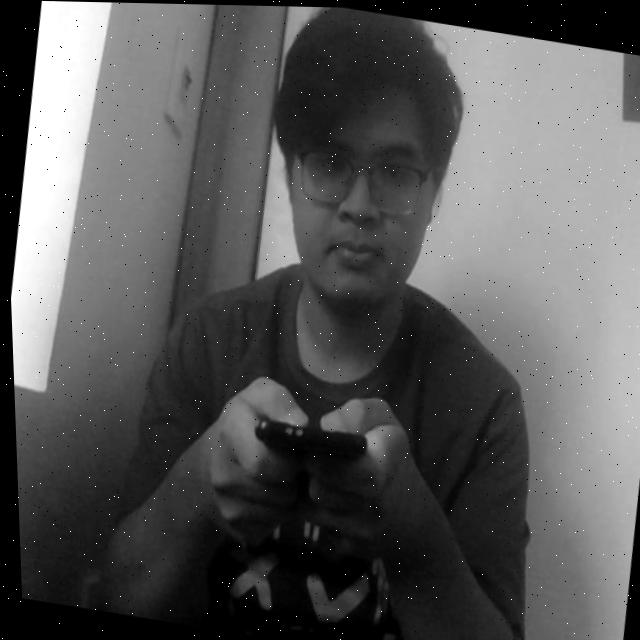phone: (240, 380, 380, 494)
